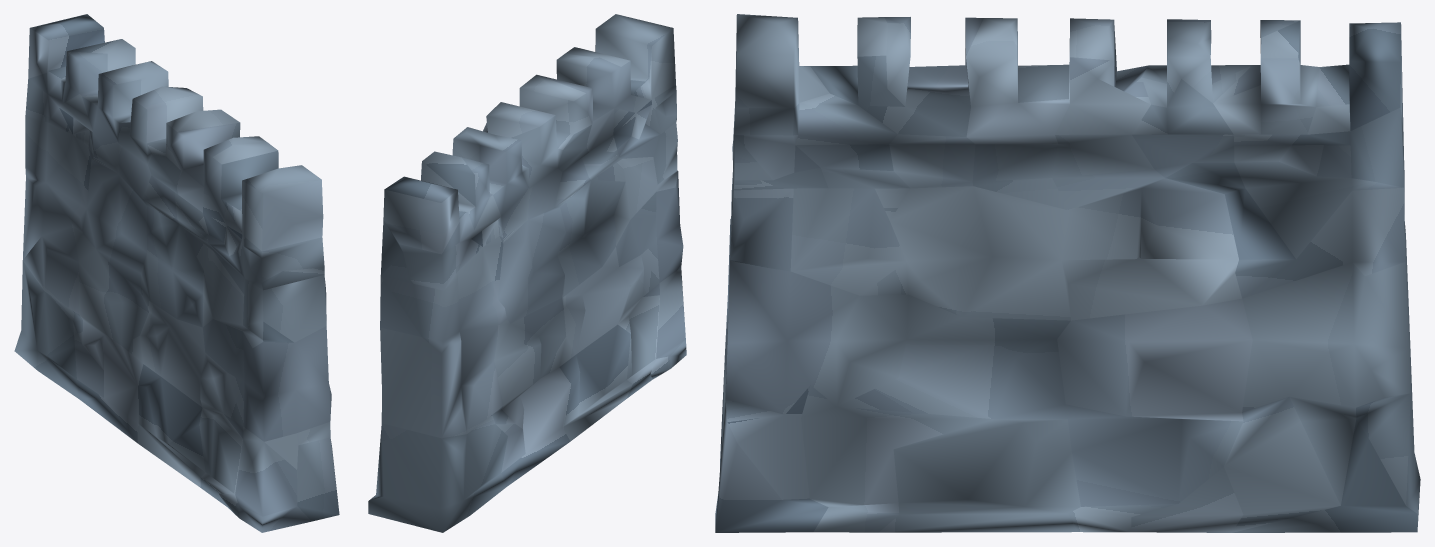
Rendered from castle_wall_diamond_ice_lo.glb.
The picture shows the model from 3 angles, left to right: view 1: azimuth 30°, elevation 25°; view 2: azimuth 150°, elevation 25°; view 3: azimuth 270°, elevation 25°; orthographic projection. The views are drawn at different scales.
Parts seen in each view (by area): view 1: tripo_node_9be18747-6542-4d4e-8204-1c5a12660f5c; view 2: tripo_node_9be18747-6542-4d4e-8204-1c5a12660f5c; view 3: tripo_node_9be18747-6542-4d4e-8204-1c5a12660f5c.
Part boxes in pixels (box(x1,y1,x2,y2)): tripo_node_9be18747-6542-4d4e-8204-1c5a12660f5c: box(14, 14, 339, 532); tripo_node_9be18747-6542-4d4e-8204-1c5a12660f5c: box(368, 14, 686, 532); tripo_node_9be18747-6542-4d4e-8204-1c5a12660f5c: box(715, 14, 1420, 532).
Size of the model in its own units: 0.1877 by 0.7393 by 0.9783.
Materials: 1 (1 with a texture image).
